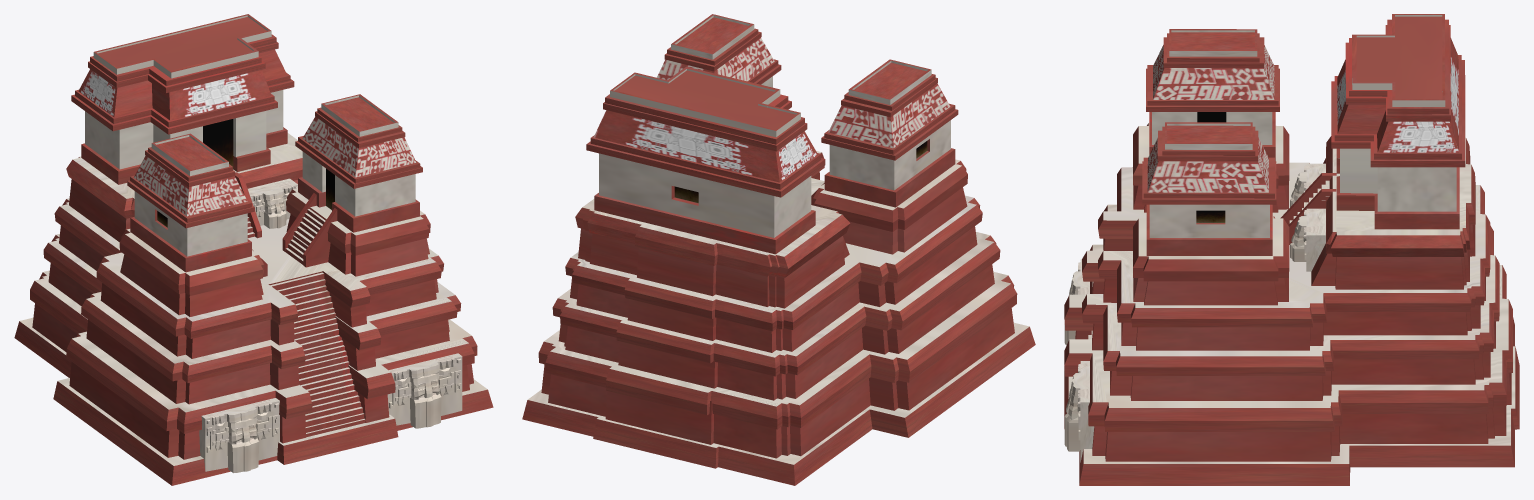
The model's file is fortress_1.dae.
3 views of the same model, side by side, from view 1: azimuth 30°, elevation 25°; view 2: azimuth 150°, elevation 25°; view 3: azimuth 270°, elevation 25° (orthographic). The views are drawn at different scales.
Visible parts, largest first — view 1: fortress_1; view 2: fortress_1; view 3: fortress_1.
Part boxes in pixels (x1,y1,x2,y2): fortress_1: (14, 14, 493, 485); fortress_1: (522, 14, 1035, 485); fortress_1: (1064, 14, 1519, 485).
Size of the model in its own units: 33.33 by 35.85 by 29.4.
1 material, 1 textured.
